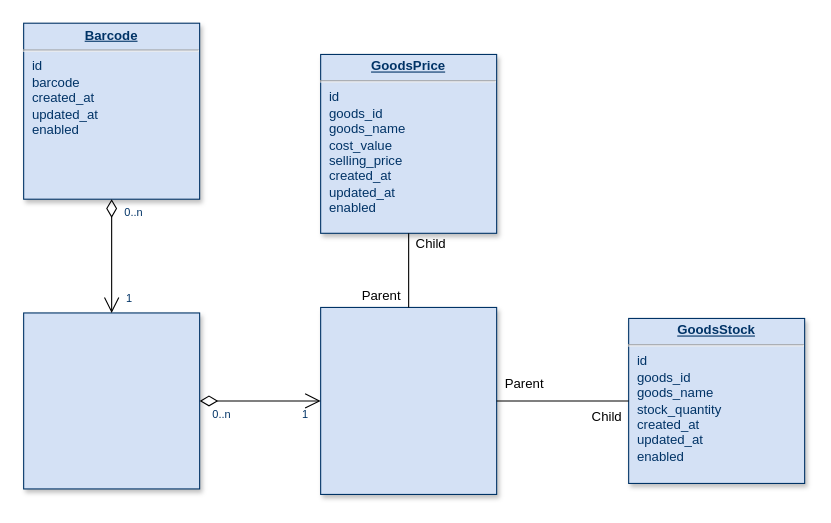
The diagram is 831 pixels wide and 523 high, and some of its shapes have lost their labels. The centre of each missing label's shape, as x and y in pixels:
"BarcodeGoodsInfo id barcode_id goods_id created_at updated_at enabled" belongs at point 112,402.
"GoodsInfo id name brand shape volumn created_at updated_at enabled" belongs at point 409,402.
